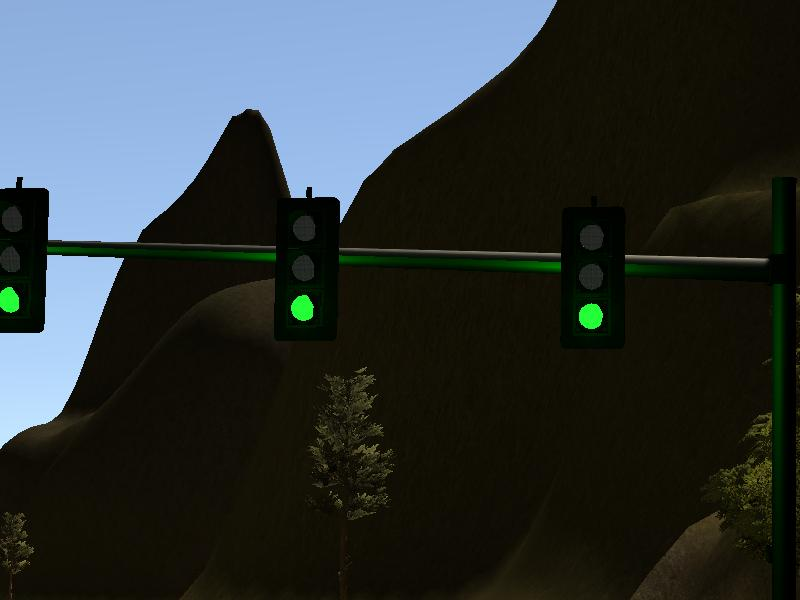Green: (566, 207, 621, 351), (278, 200, 334, 338), (1, 187, 46, 332)
